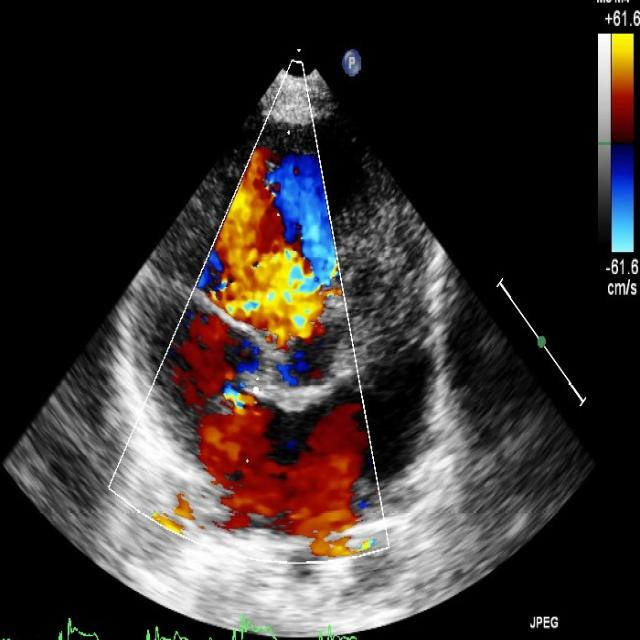VSDType2: (218, 244, 326, 386)
